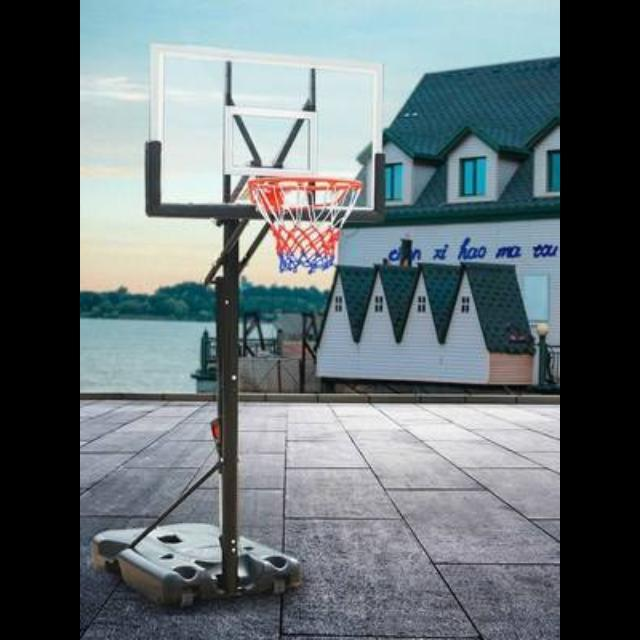rim: (250, 176, 364, 270)
